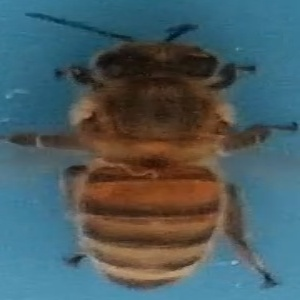bee: (13, 9, 293, 294)
